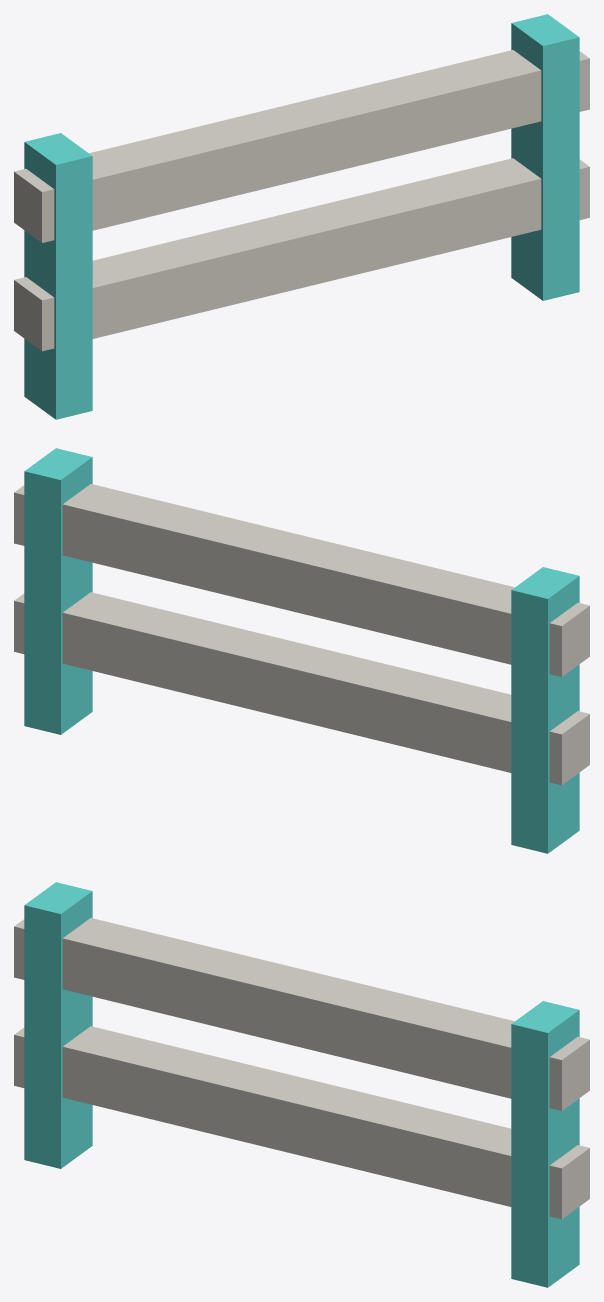
File: 26_low_fence.glb
The picture shows the model from 3 angles, top to bottom: view 1: azimuth 30°, elevation 25°; view 2: azimuth 150°, elevation 25°; view 3: azimuth 330°, elevation 25°; orthographic projection.
Visible parts, largest first — view 1: 26_low_fence; view 2: 26_low_fence; view 3: 26_low_fence.
Boxes of the visible parts, bbox=[...] form: 26_low_fence: bbox=[14, 14, 589, 419]; 26_low_fence: bbox=[14, 448, 589, 853]; 26_low_fence: bbox=[14, 882, 589, 1287].
Bounding box in the file's own units: 1.8 × 0.8 × 0.18.
